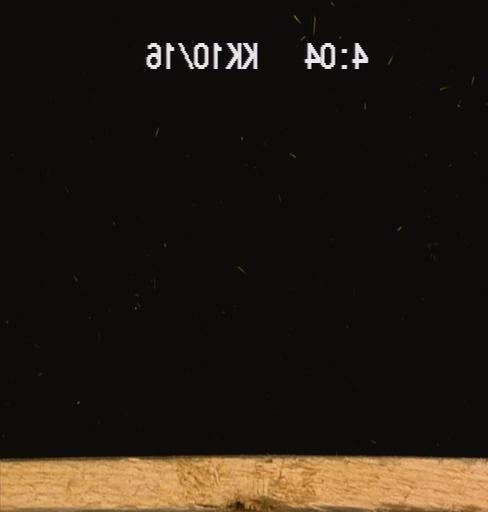wave: (183, 497, 366, 511)
